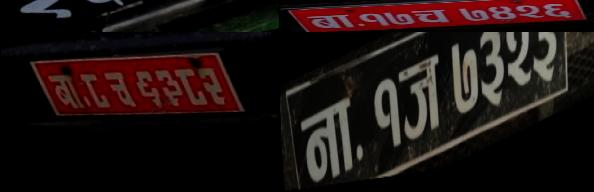1: (368, 65, 402, 171), (9, 0, 79, 31), (353, 12, 392, 28)
2: (503, 32, 534, 107), (196, 64, 230, 110), (510, 4, 549, 21)
3: (475, 32, 508, 124), (527, 32, 560, 97), (153, 66, 184, 112), (76, 0, 142, 16)
4: (483, 5, 521, 22)
6: (130, 67, 163, 116), (537, 3, 578, 20)
7: (447, 32, 481, 128), (452, 6, 494, 23), (380, 10, 419, 27)
8: (170, 65, 209, 114), (78, 67, 112, 117)
ba: (43, 69, 85, 119), (298, 14, 363, 32)
cha: (99, 67, 138, 115), (406, 8, 458, 26)
ja: (396, 44, 446, 156)
ka: (295, 82, 357, 190)
